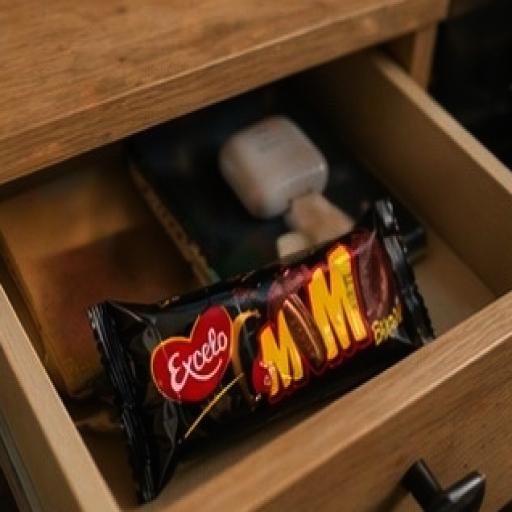MOMO: (63, 178, 444, 461)
